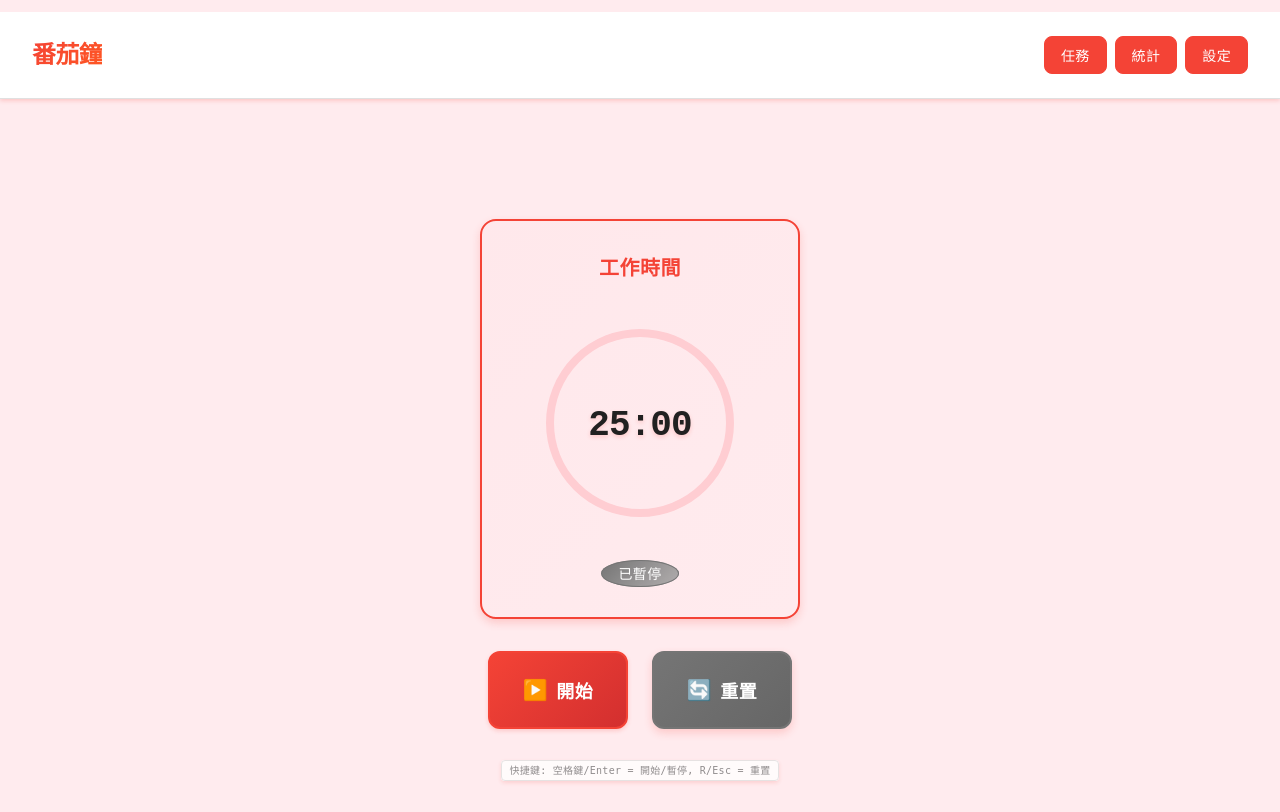
Test: 設定面板顯示問題修復測試 › 設定面板功能完整性 › 桌面端和移動端都應該顯示完整的設定選項
What coordinates should you click on to do the following:
click the button "設定"
I would click on:
 (1217, 55)
Its box is 1185,36 -> 1248,74.
(page scrolled)
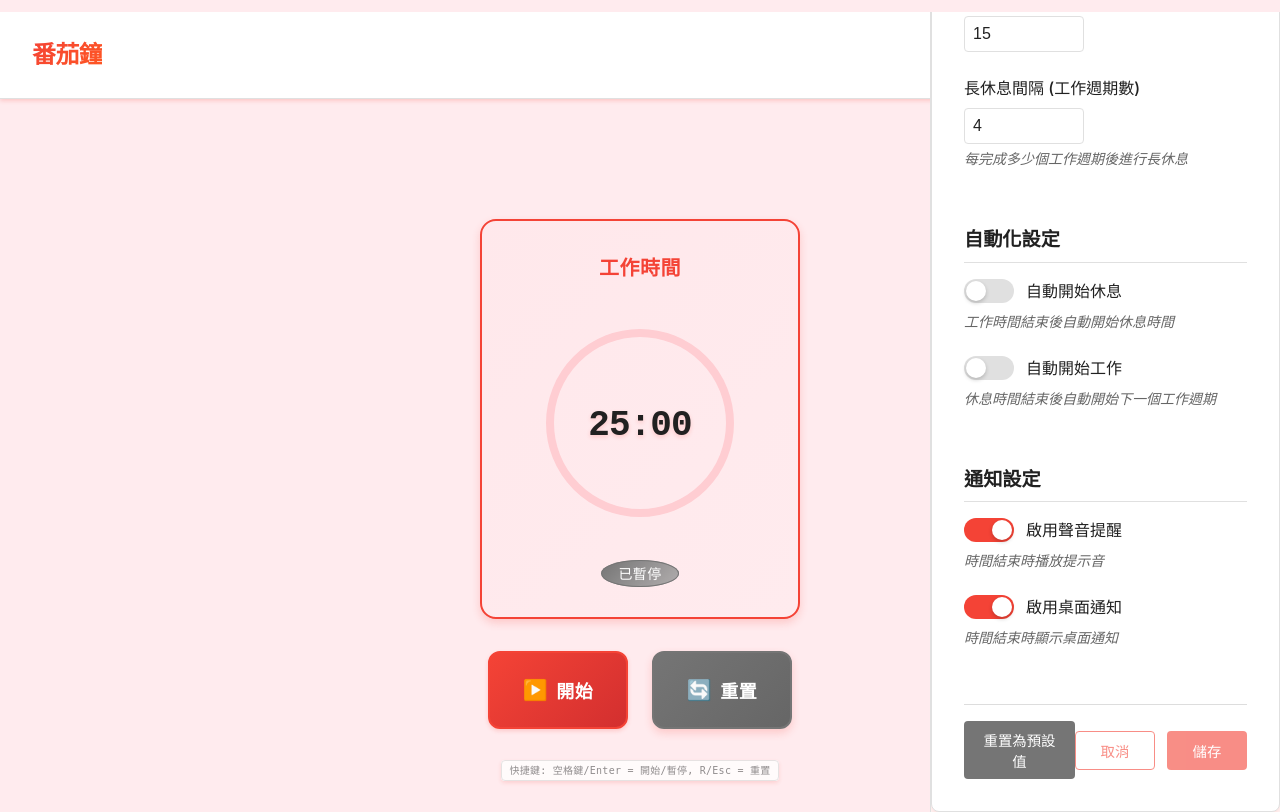
Expected: the number field labelled "長休息時間 (分鐘)" is shown, 964,16 -> 1084,52
Expected: the checkbox labelled "自動開始休息" is shown, 964,279 -> 1122,303
Expected: the checkbox labelled "啟用聲音提醒" is shown, 964,518 -> 1122,542
